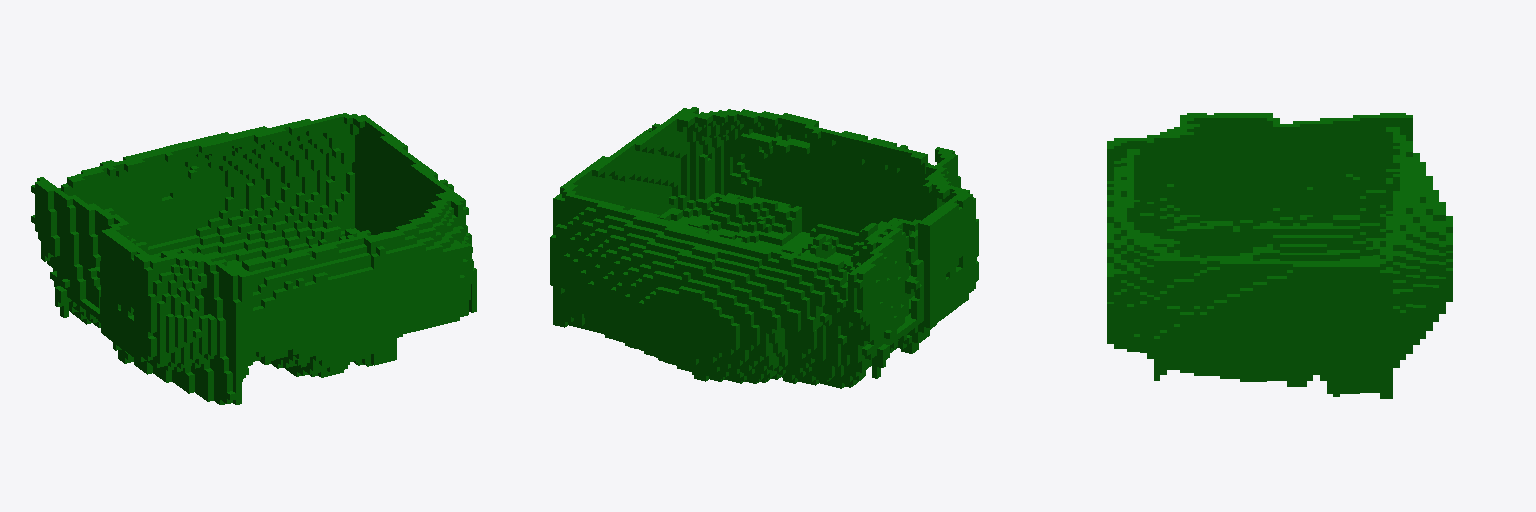
The model's file is Input_surface.obj.
The picture shows the model from 3 angles: view 1: azimuth 30°, elevation 25°; view 2: azimuth 150°, elevation 25°; view 3: azimuth 270°, elevation 25°; orthographic projection.
Visible parts, largest first — view 1: Cube; view 2: Cube; view 3: Cube.
Boxes of the visible parts, x1=… form: Cube: x1=31, y1=113, x2=476, y2=404; Cube: x1=550, y1=107, x2=978, y2=388; Cube: x1=1107, y1=113, x2=1452, y2=398.
Size of the model in its own units: 4.4 by 1.76 by 4.16.